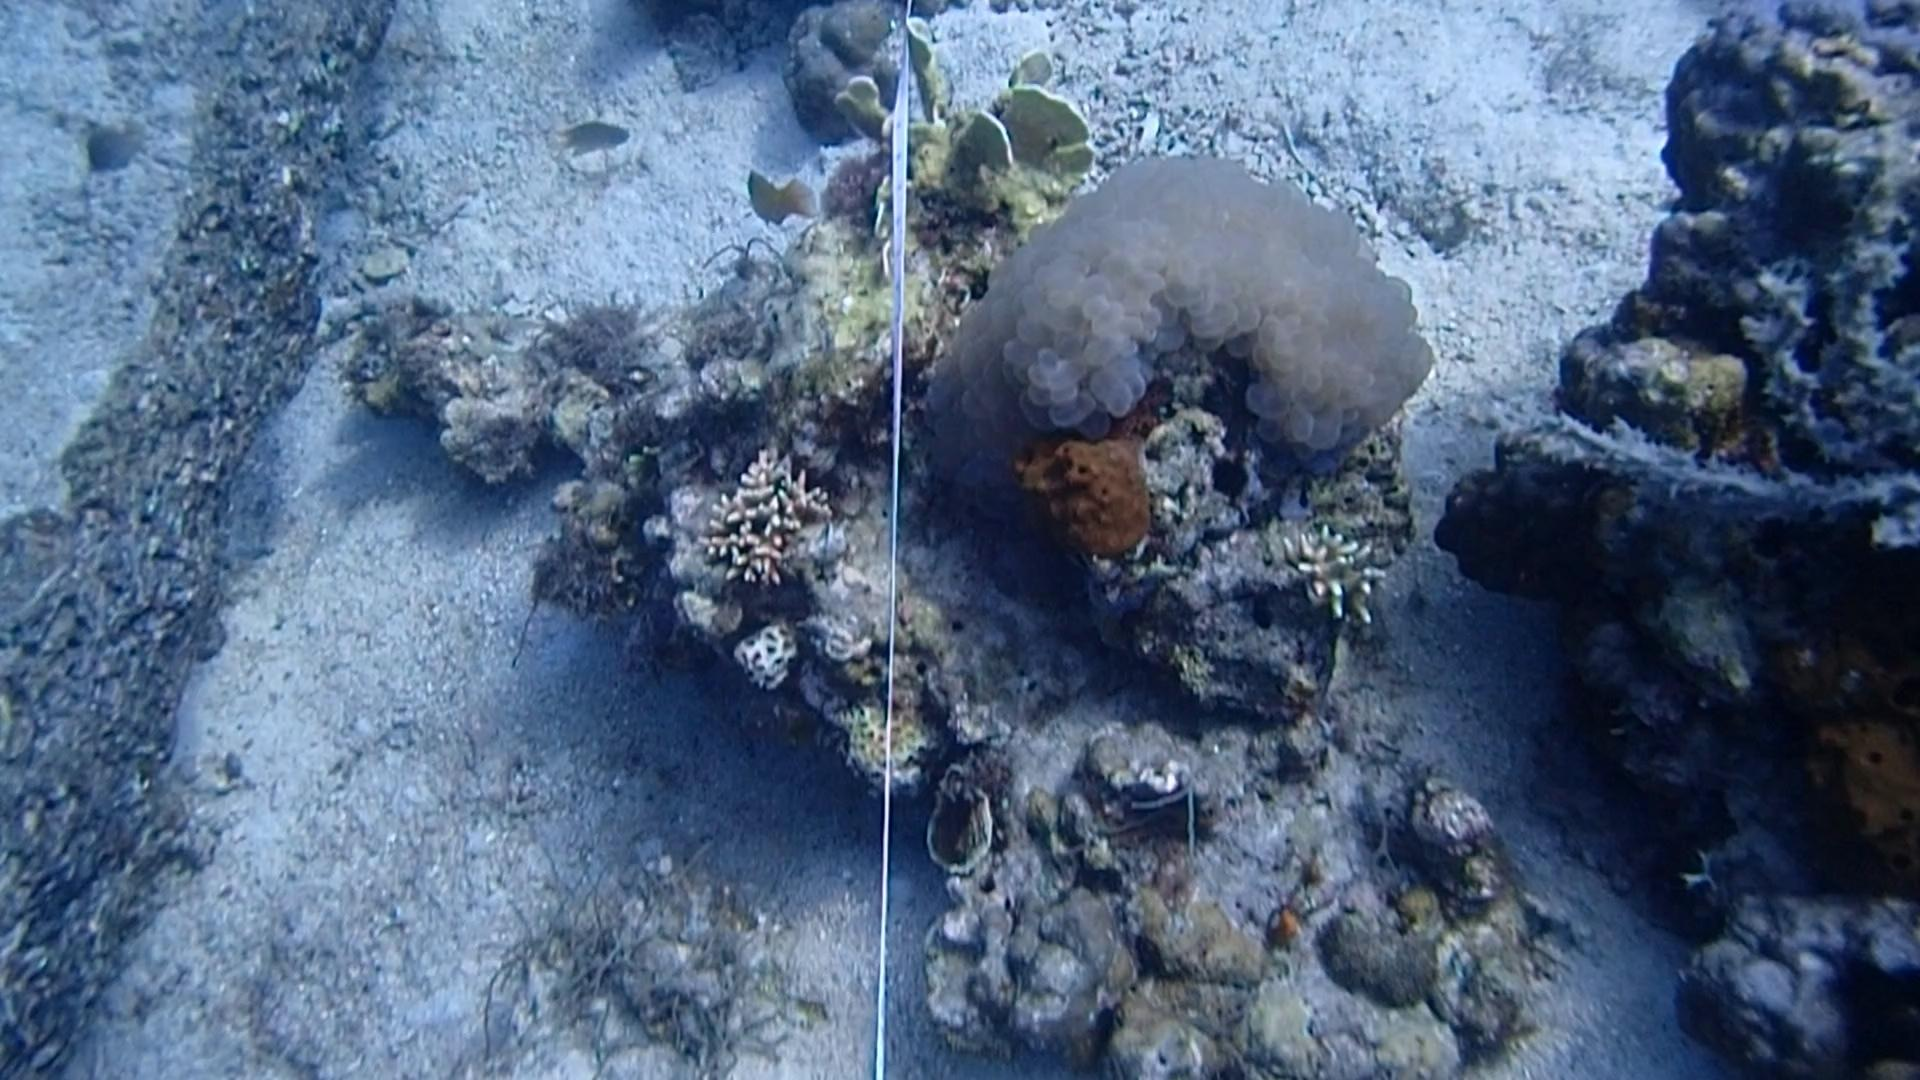Light Fish: (71, 104, 158, 187), (551, 109, 637, 169)
Yellow-Blue Fish: (733, 160, 825, 233)
